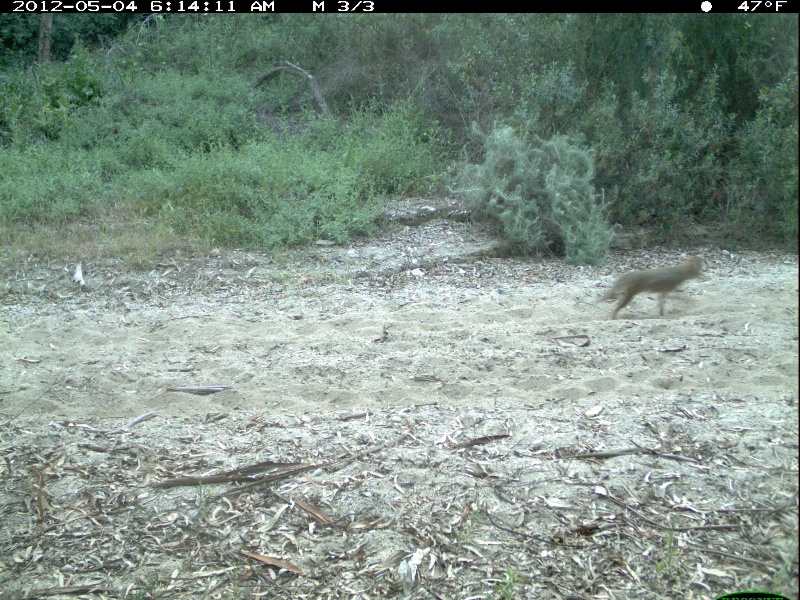coyote: (596, 256, 711, 321)
